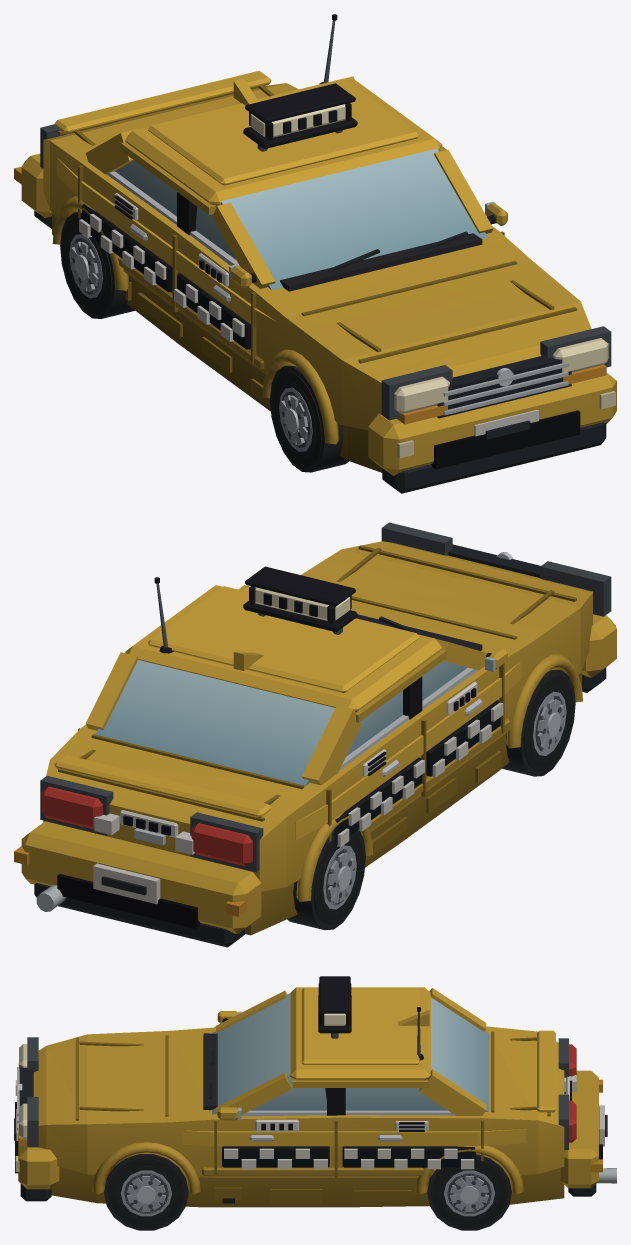
The model's file is taxi.glb.
The picture shows the model from 3 angles, top to bottom: view 1: azimuth 30°, elevation 25°; view 2: azimuth 150°, elevation 25°; view 3: azimuth 270°, elevation 25°; orthographic projection. The views are drawn at different scales.
Parts seen in each view (by area): view 1: taxi_01; view 2: taxi_01; view 3: taxi_01.
Boxes of the visible parts, x1,y1,x2,y2 form: taxi_01: [14, 14, 616, 493]; taxi_01: [14, 522, 616, 947]; taxi_01: [14, 976, 616, 1230].
Bounding box in the file's own units: 1.2 × 1.17 × 3.06.
